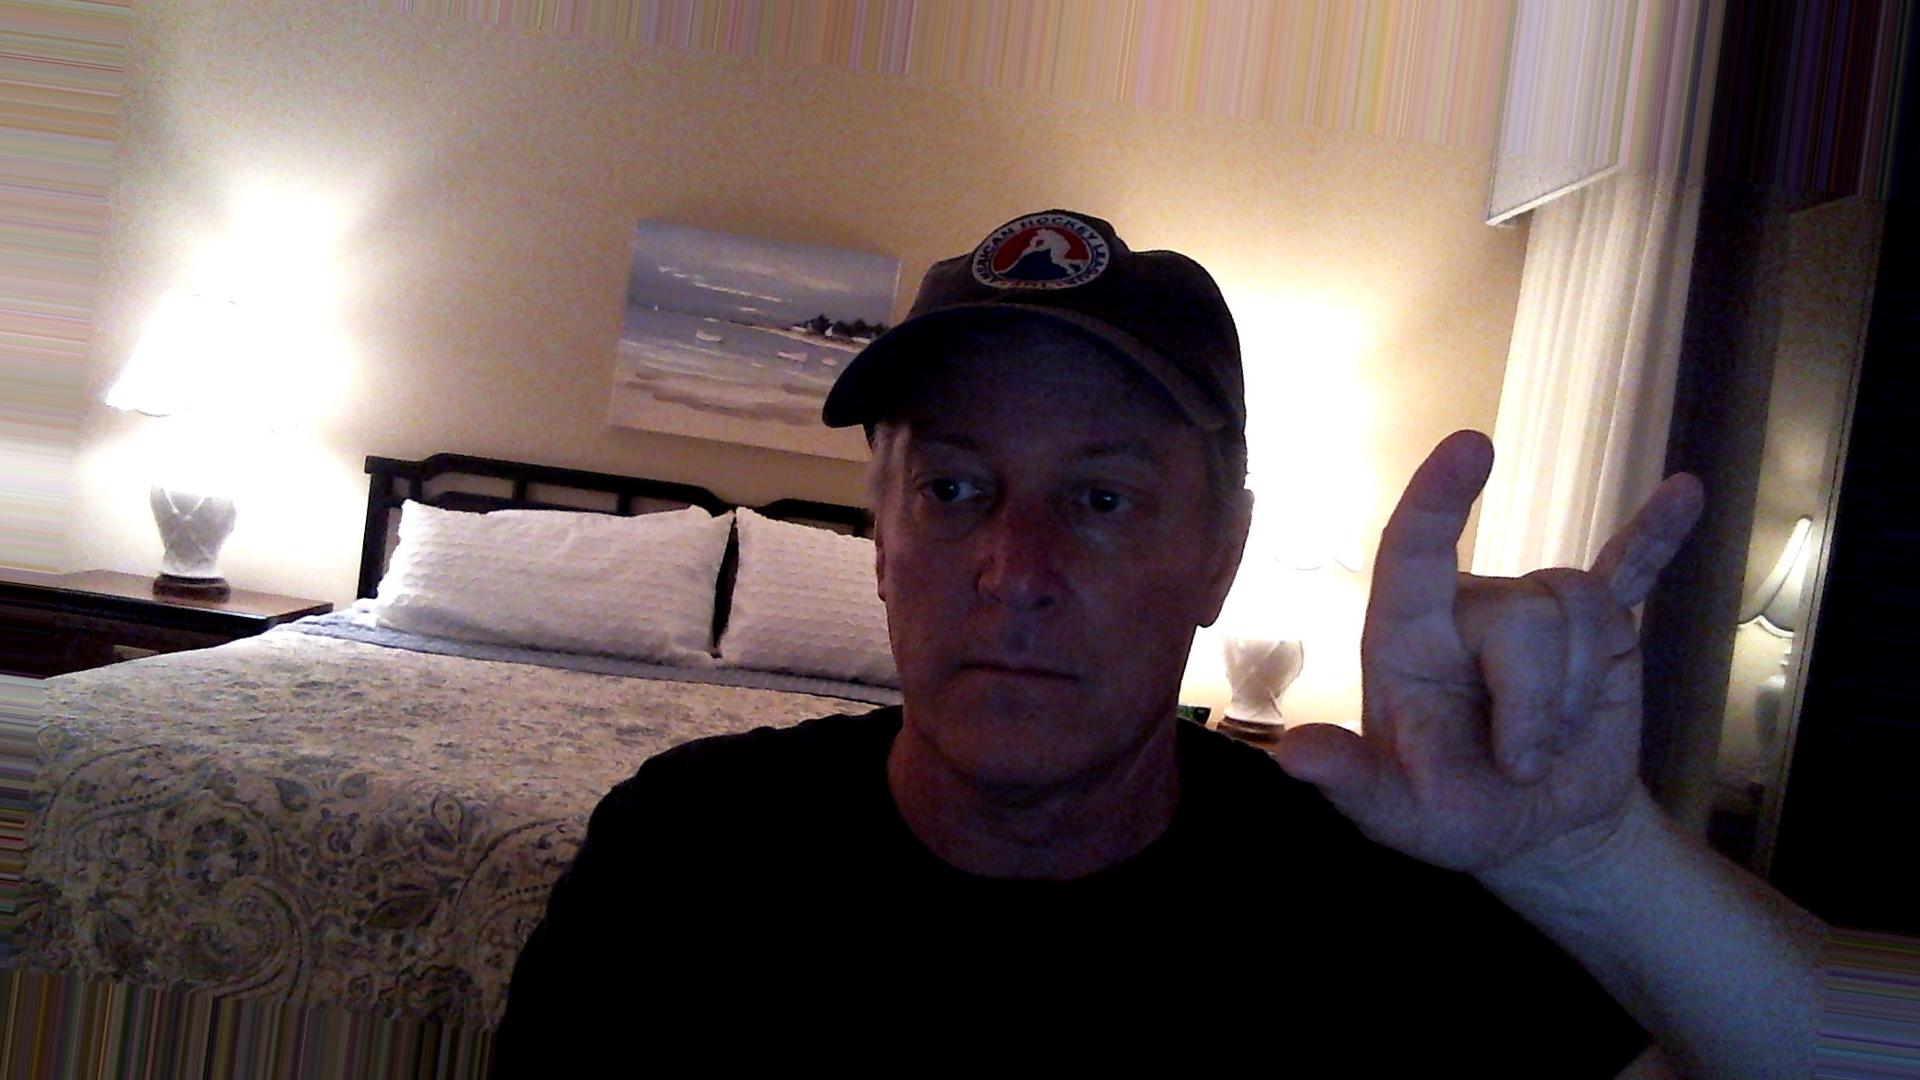I Love You: (1267, 407, 1718, 891)
